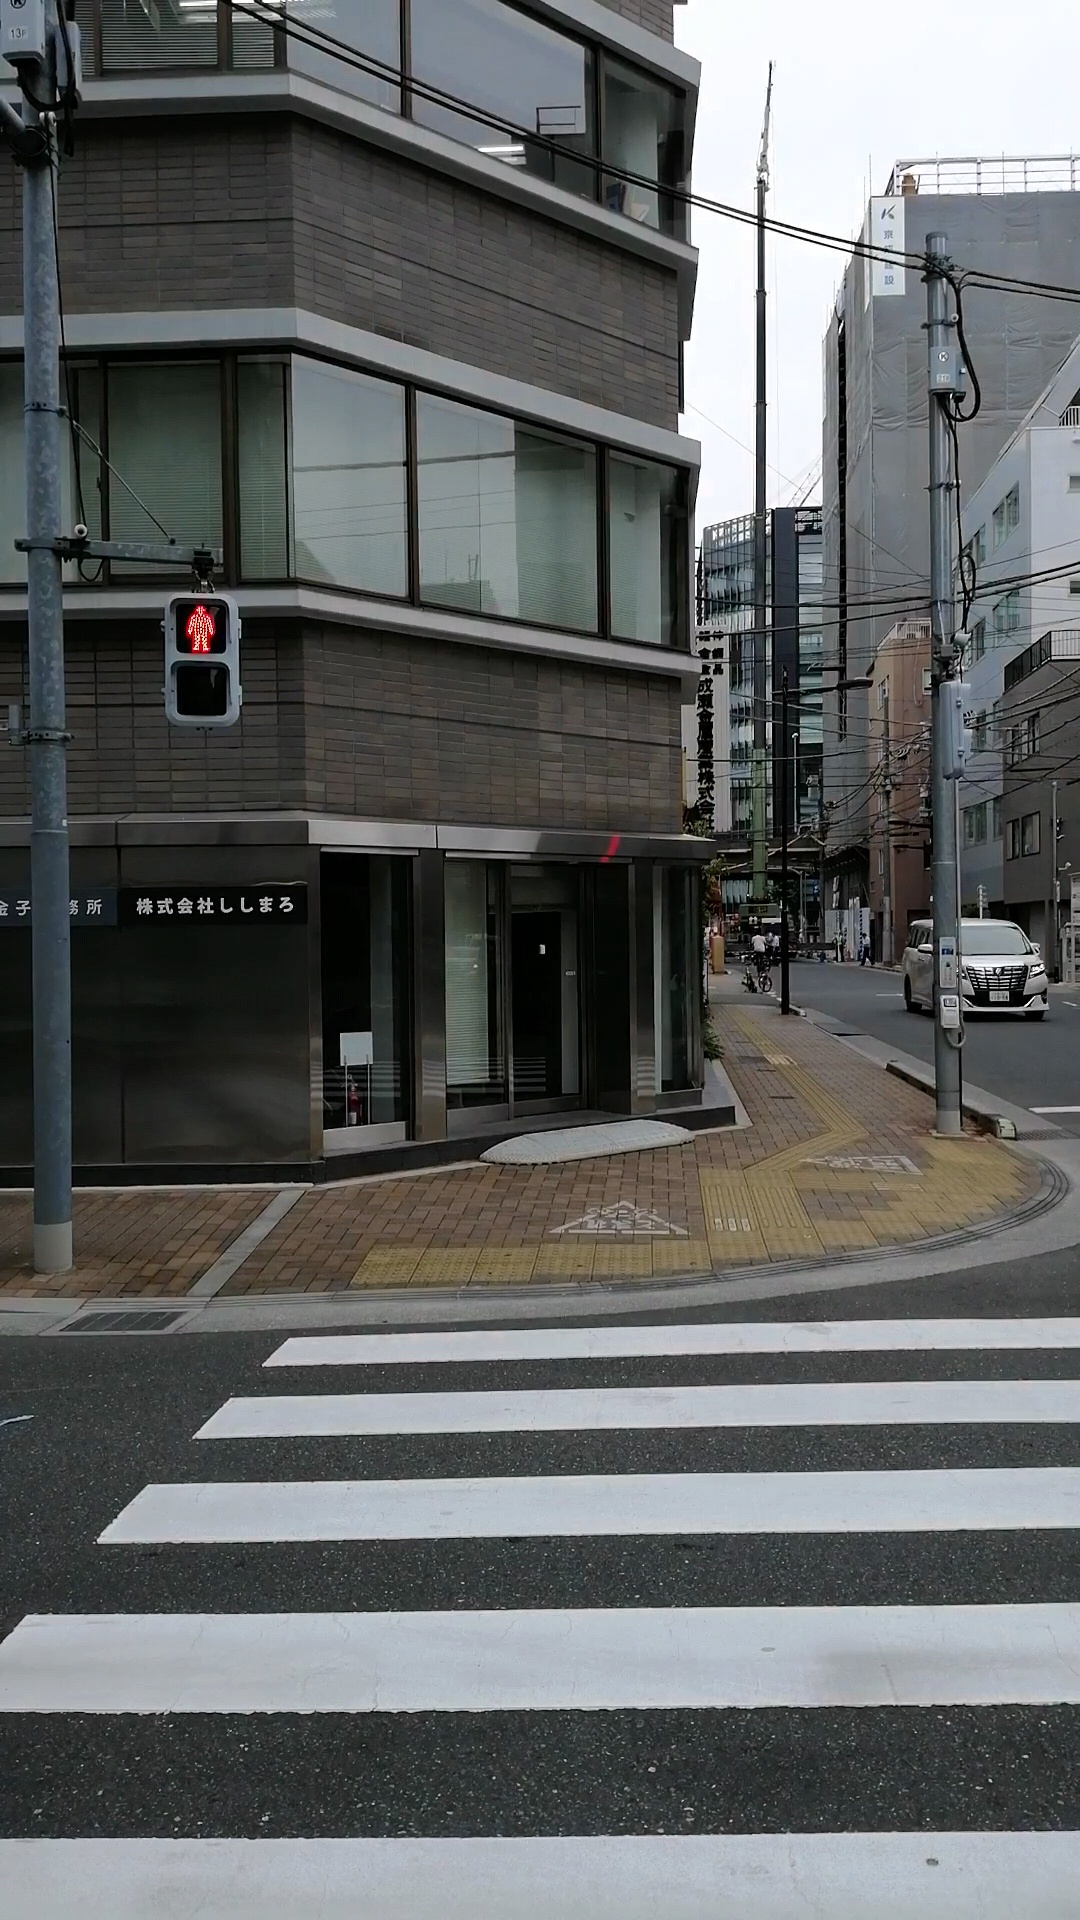red: (164, 592, 241, 724)
